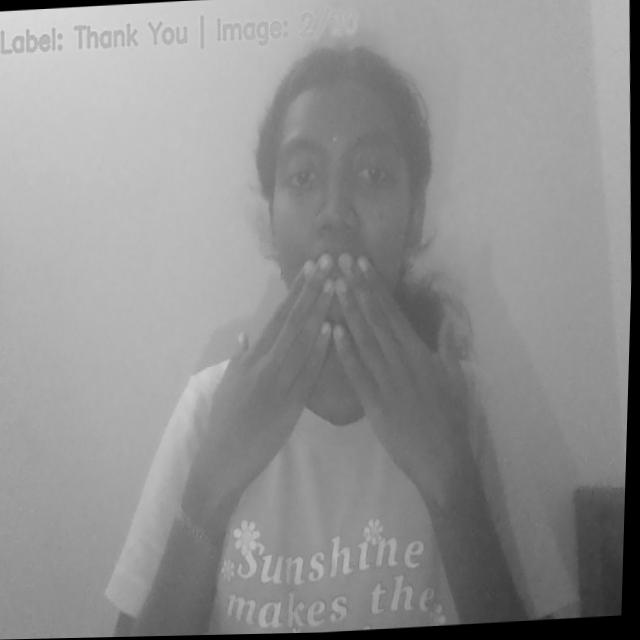Thank You: (170, 241, 513, 521)
